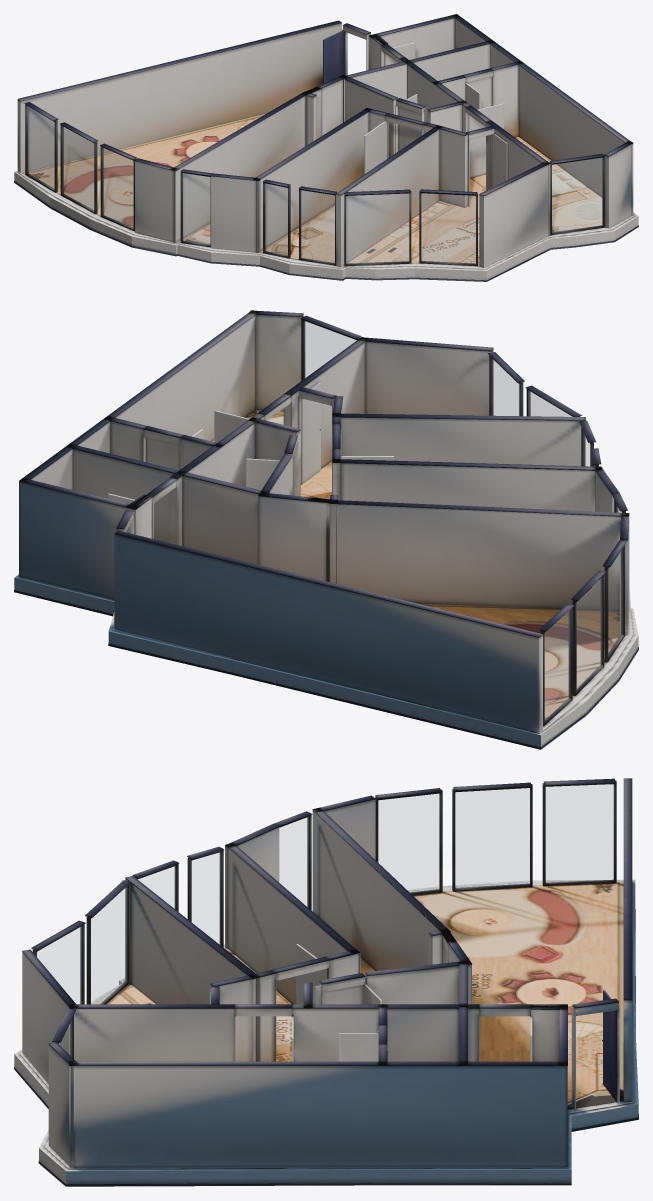
3 renders of one model, top to bottom at view 1: azimuth 30°, elevation 25°; view 2: azimuth 150°, elevation 25°; view 3: azimuth 270°, elevation 25°, orthographic. The views are drawn at different scales.
Parts seen in each view (by area): view 1: plan, glass6_m, glass7_m, glass8_m, glass5_m, glass1_m, glass2_m, glass3_m, glass0_m, glass4_m; view 2: plan, glass0_m, glass1_m, glass8_m, glass2_m, glass7_m; view 3: plan, glass1_m, glass0_m, glass2_m, glass6_m, glass4_m, glass3_m, glass7_m, glass5_m.
Part boxes in pixels (bbox=[...]): plan: bbox=[14, 14, 638, 281]; glass6_m: bbox=[346, 194, 408, 263]; glass7_m: bbox=[421, 193, 475, 263]; glass8_m: bbox=[552, 158, 602, 232]; glass5_m: bbox=[301, 190, 334, 263]; glass1_m: bbox=[63, 127, 93, 210]; glass2_m: bbox=[103, 148, 133, 227]; glass3_m: bbox=[183, 173, 210, 244]; glass0_m: bbox=[27, 106, 54, 189]; glass4_m: bbox=[265, 183, 287, 255]; plan: bbox=[14, 310, 638, 749]; glass0_m: bbox=[545, 610, 569, 720]; glass1_m: bbox=[577, 577, 601, 690]; glass8_m: bbox=[304, 321, 356, 378]; glass2_m: bbox=[608, 549, 622, 655]; glass7_m: bbox=[492, 359, 518, 415]; plan: bbox=[14, 778, 638, 1186]; glass1_m: bbox=[455, 788, 529, 888]; glass0_m: bbox=[546, 784, 613, 882]; glass2_m: bbox=[378, 794, 439, 892]; glass6_m: bbox=[91, 887, 126, 1003]; glass4_m: bbox=[192, 852, 220, 944]; glass3_m: bbox=[279, 817, 308, 907]; glass7_m: bbox=[37, 927, 81, 1003]; glass5_m: bbox=[138, 866, 175, 908].
Bounding box in the file's own units: 13.85 × 2.62 × 12.54.
2 materials, 1 textured.
